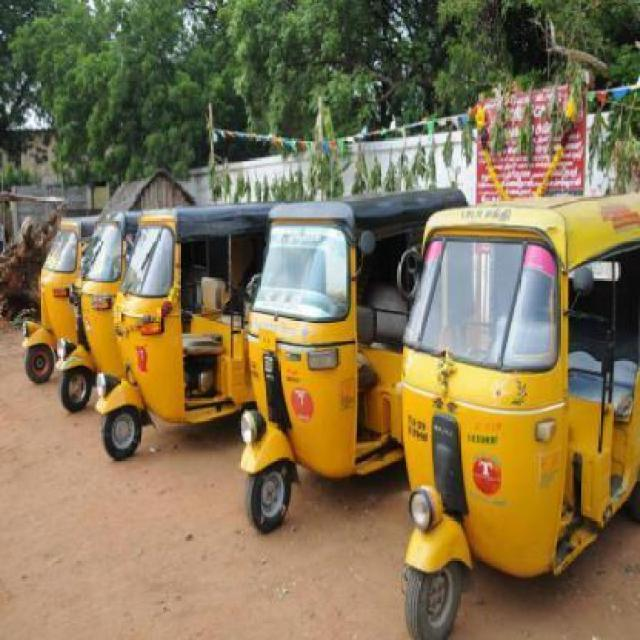vehicle: (395, 183, 640, 638), (245, 212, 398, 530), (118, 215, 247, 442), (68, 216, 124, 422), (28, 212, 82, 402)
